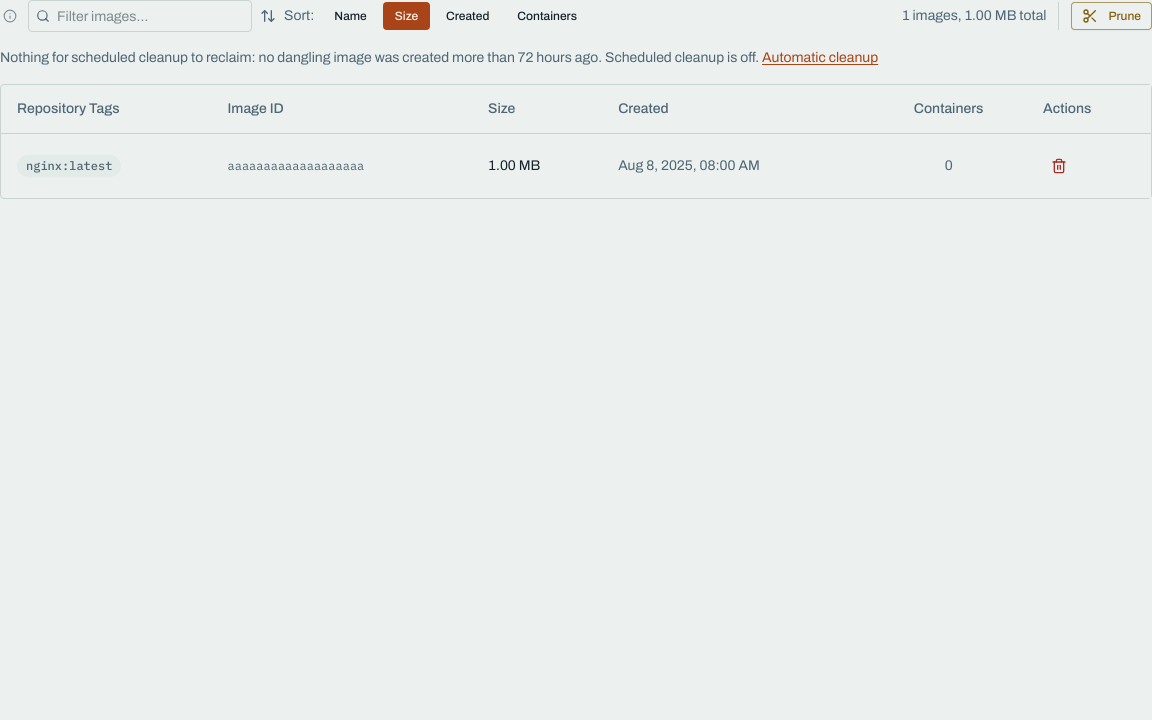
Scenario: ImagesTab — prune warns about stacks that would lose images › says it could not check, and still requires typing, when the check fails
The width and height of the screenshot is (1152, 720).
expect the text "nginx:latest" is shown: met, box [17,154,121,176]
Click the button "Prune". click: click(1112, 16)
box: [1072,2,1151,30]
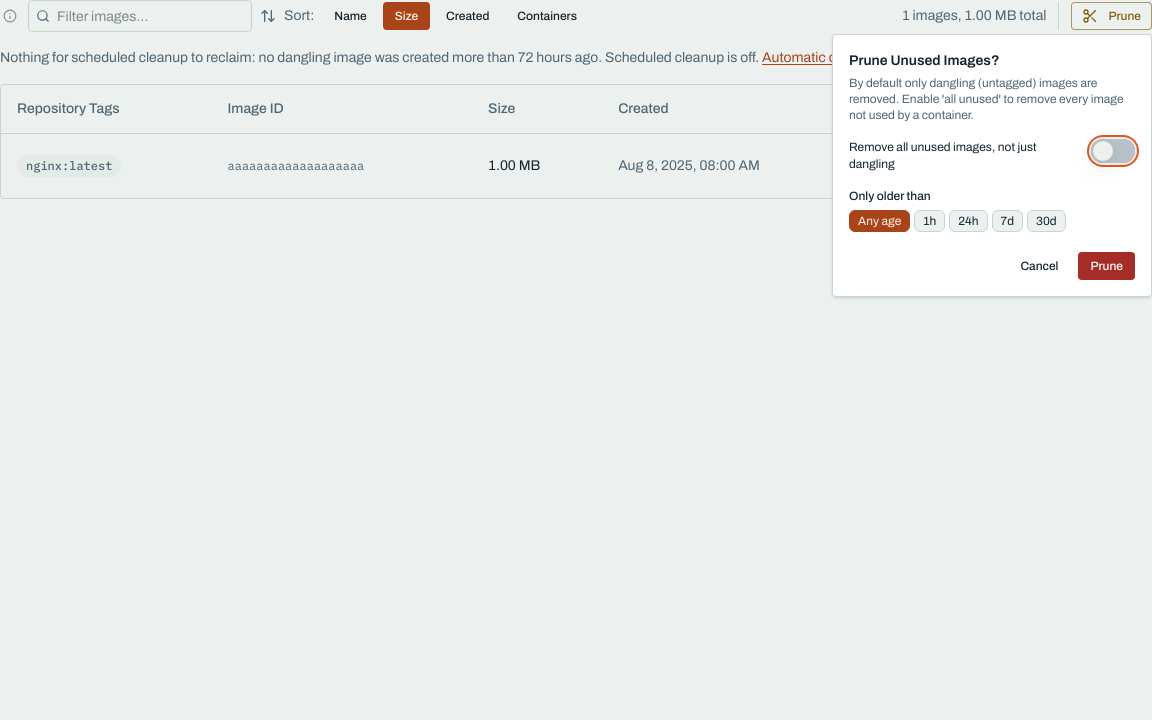
expect the text "Prune Unused Images?" is shown: met, box [849,53,1000,68]
Click the switch. click: click(1113, 151)
box: [1091,139,1135,163]
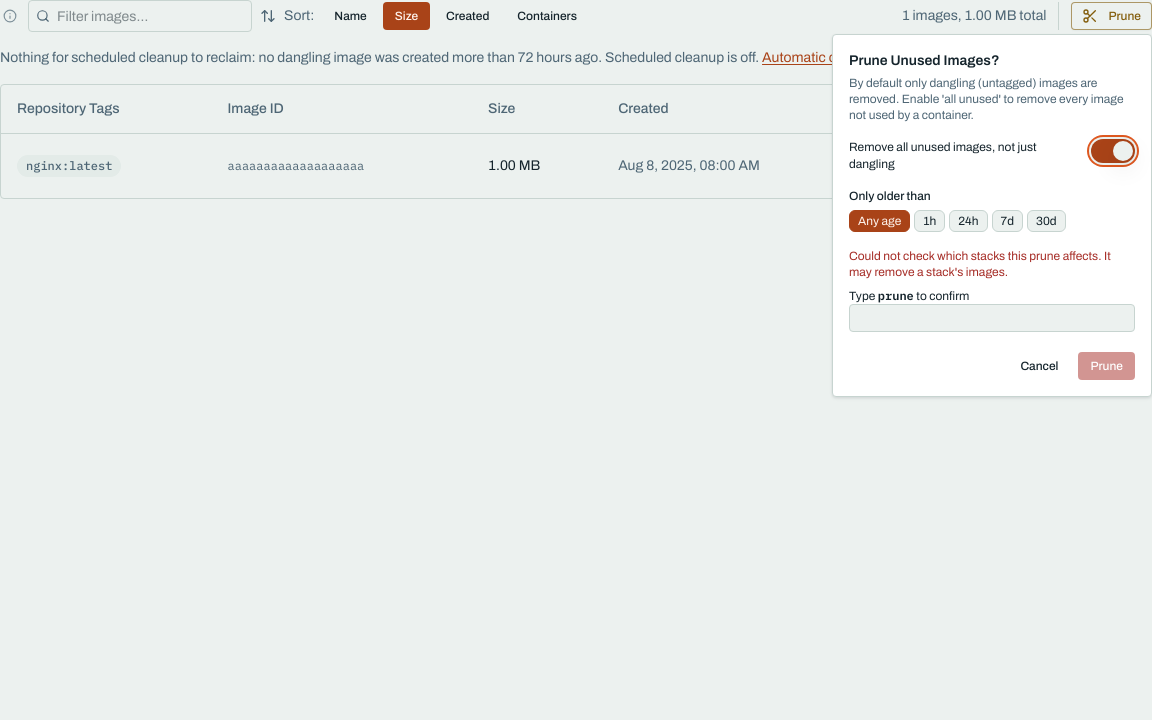
expect the text "Could not check which stacks this prune affects" is shown: met, box [849,249,1111,279]
expect the field labelled "Type prune to confirm" is shown: met, box [849,304,1135,332]
expect the button "Prune" below "Type" is disabled: met, box [1078,352,1135,380]
